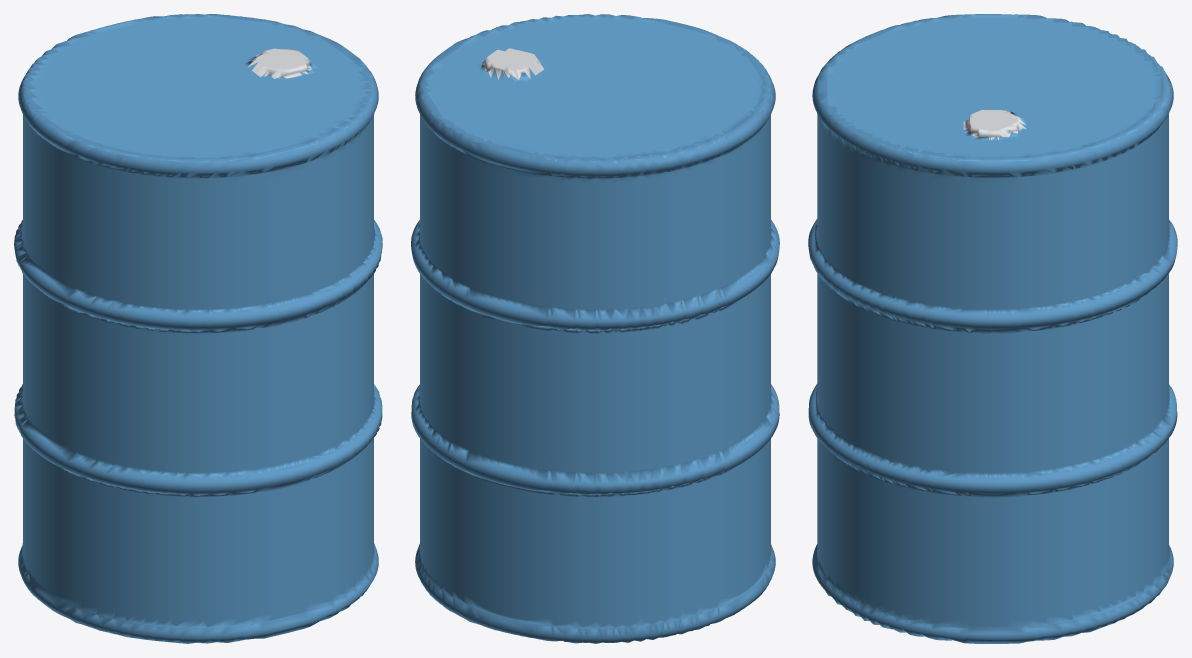
The model's file is oil_drum.glb.
The picture shows the model from 3 angles, left to right: view 1: azimuth 30°, elevation 25°; view 2: azimuth 150°, elevation 25°; view 3: azimuth 270°, elevation 25°; orthographic projection.
Visible parts, largest first — view 1: IronSmith model; view 2: IronSmith model; view 3: IronSmith model.
Boxes of the visible parts, bbox=[...] form: IronSmith model: bbox=[14, 14, 382, 643]; IronSmith model: bbox=[411, 14, 779, 643]; IronSmith model: bbox=[808, 14, 1177, 643].
Size of the model in its own units: 6.09 by 8.96 by 6.09.
